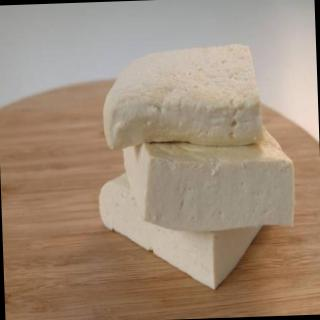Tahu: (82, 31, 310, 305)
